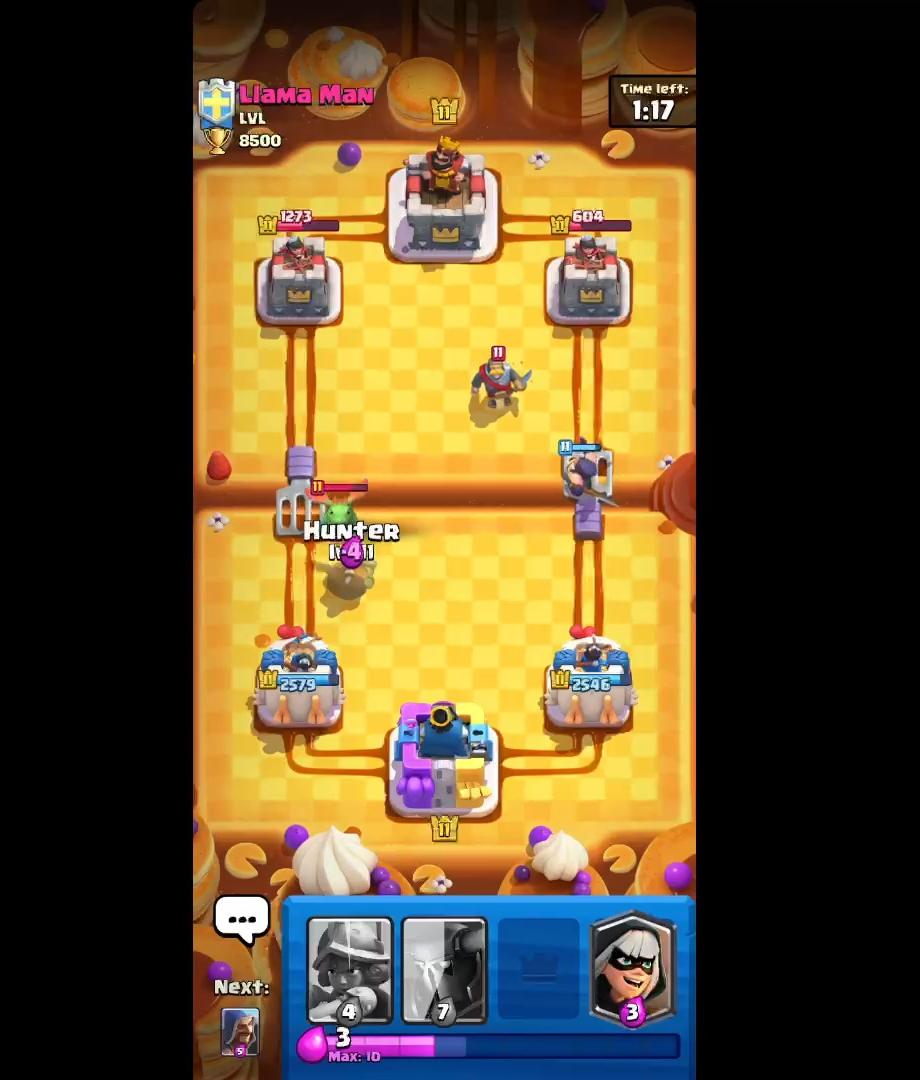Knight: (466, 343, 538, 414)
